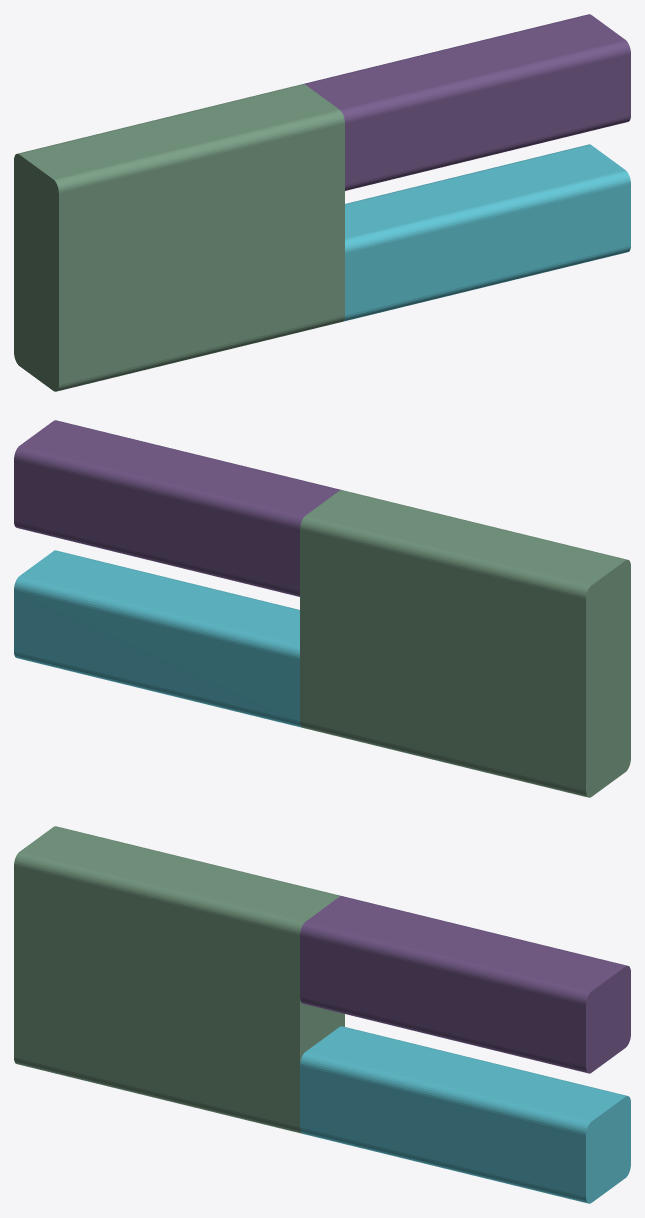
File: peg_42_canonical.obj
The picture shows the model from 3 angles, top to bottom: view 1: azimuth 30°, elevation 25°; view 2: azimuth 150°, elevation 25°; view 3: azimuth 330°, elevation 25°; orthographic projection.
Visible parts, largest first — view 1: geometry_0, geometry_1, geometry_2; view 2: geometry_0, geometry_1, geometry_2; view 3: geometry_0, geometry_1, geometry_2.
Part boxes in pixels (box(x1,y1,x2,y2)): geometry_0: box(14, 84, 344, 391); geometry_1: box(304, 14, 630, 190); geometry_2: box(343, 144, 630, 321); geometry_0: box(300, 490, 630, 797); geometry_1: box(14, 420, 340, 596); geometry_2: box(14, 550, 301, 727); geometry_0: box(14, 826, 344, 1133); geometry_1: box(300, 896, 630, 1073); geometry_2: box(300, 1026, 630, 1203).
Bounding box in the file's own units: 0.15 × 0.053 × 0.0204.
